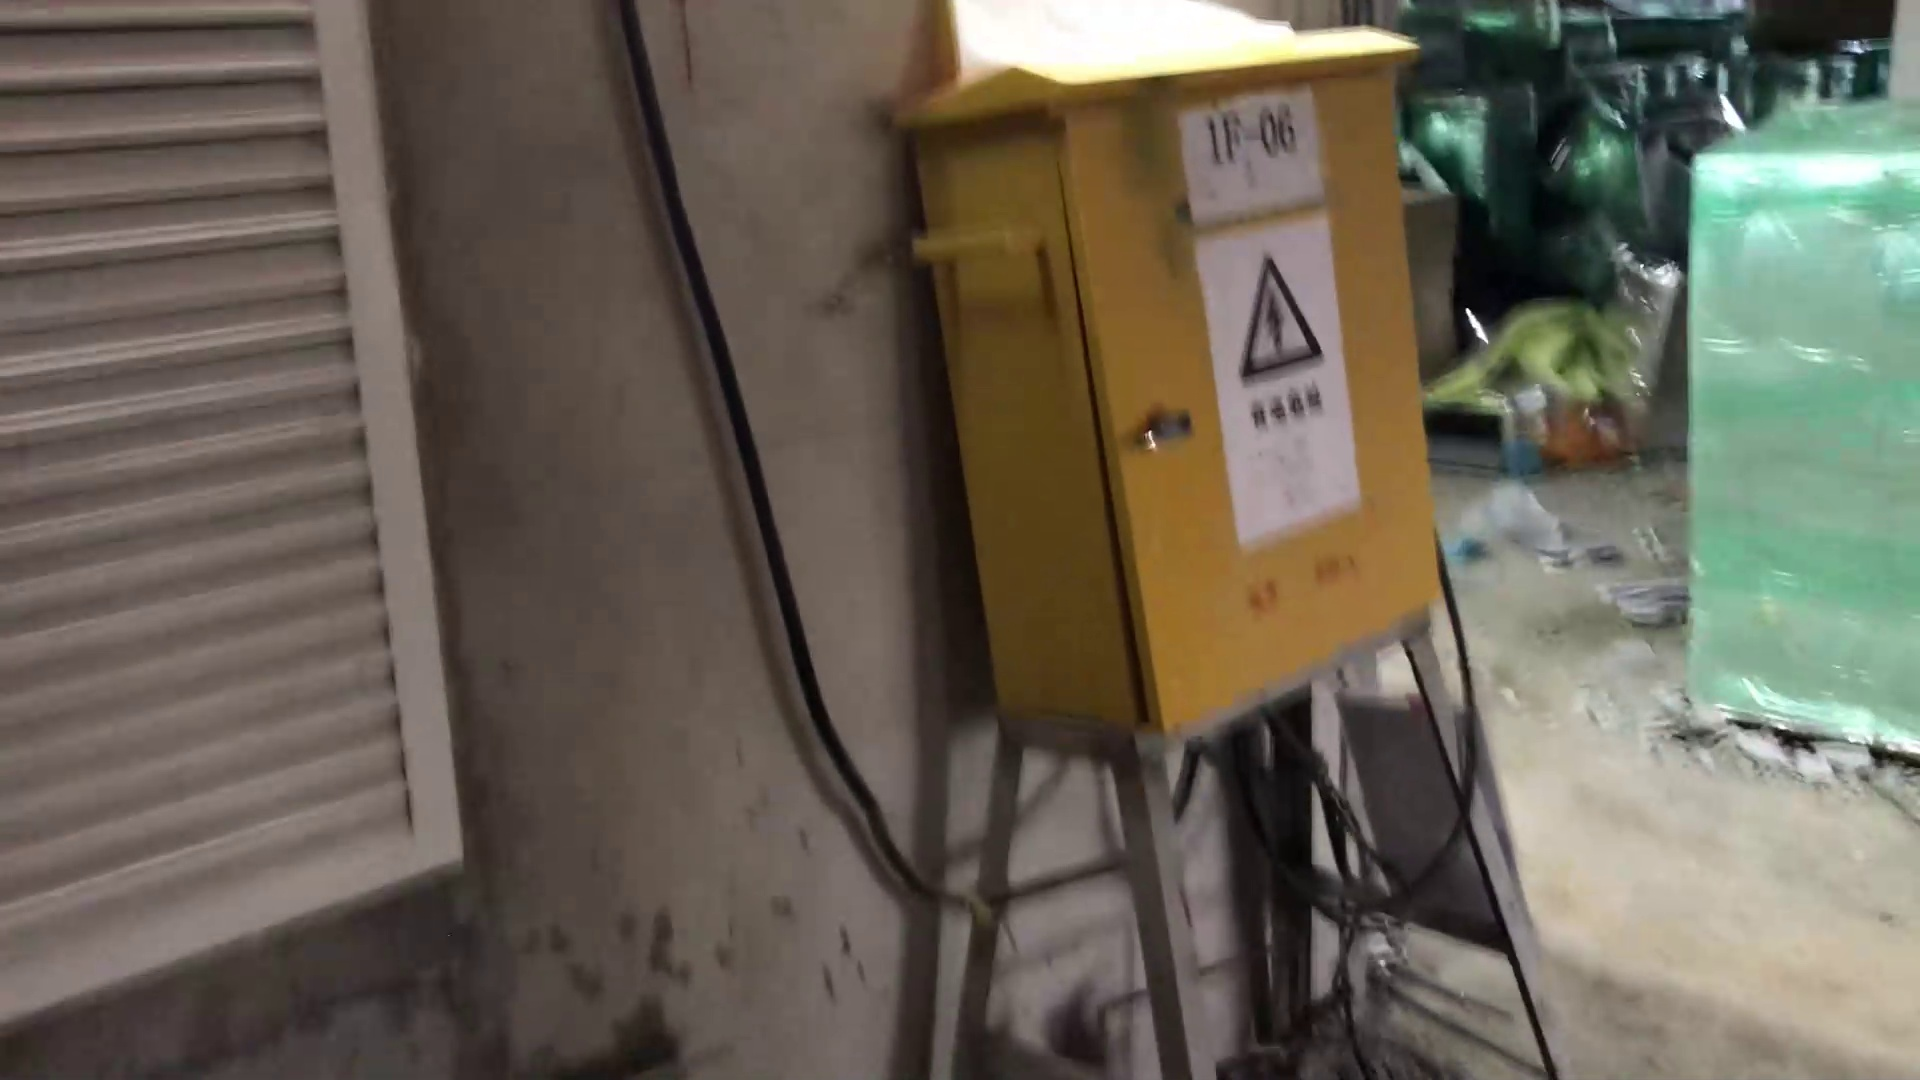ebox: (860, 7, 1582, 1080)
